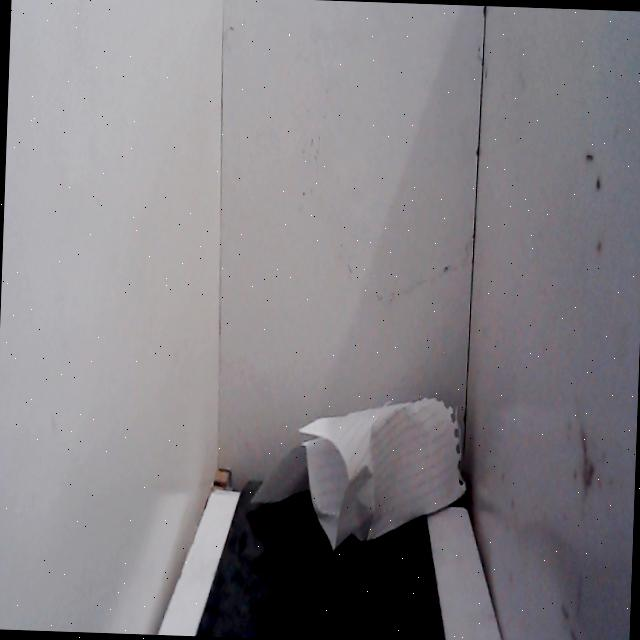papel: (245, 382, 476, 560)
